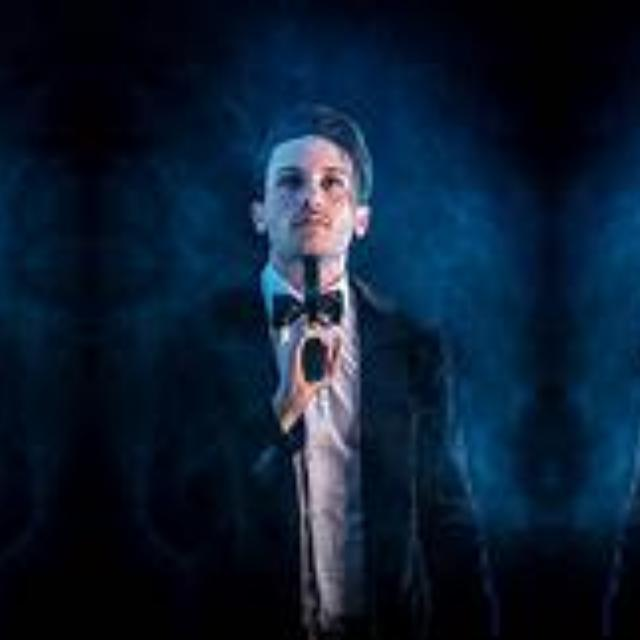person: (162, 130, 460, 552), (0, 130, 16, 552), (639, 130, 640, 552)
